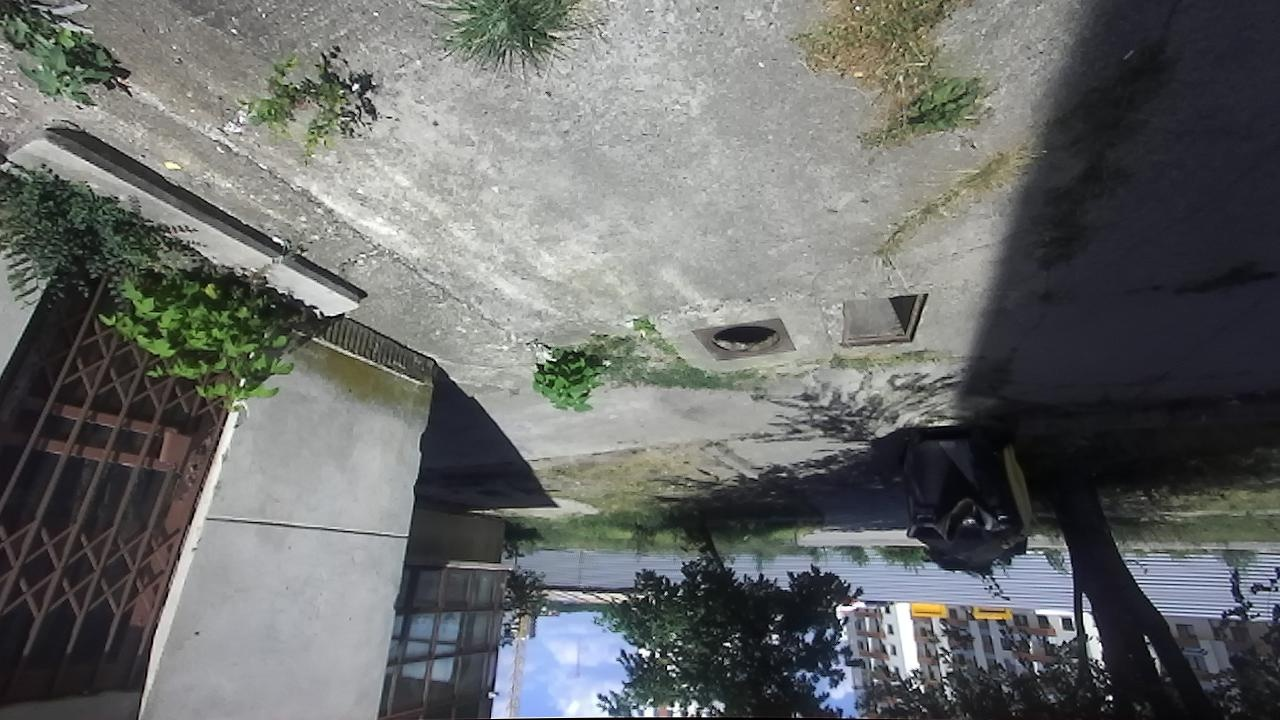drain: (838, 290, 931, 350), (707, 321, 784, 356)
